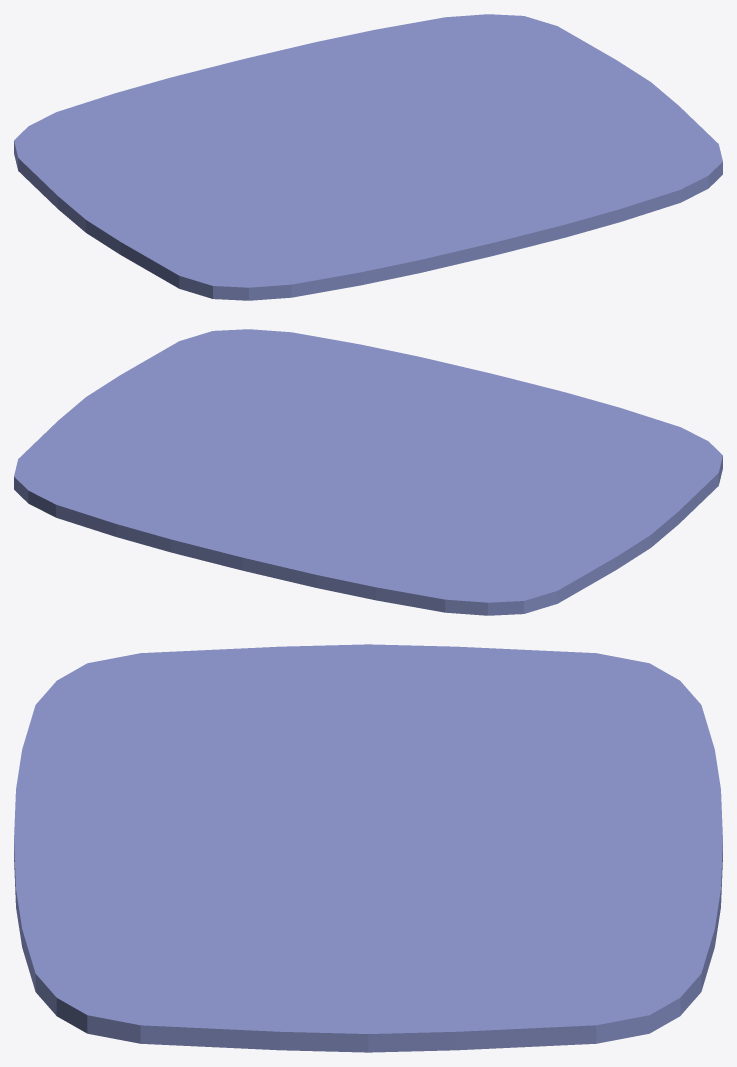
Rendered from Lake.fbx.
3 renders of one model, top to bottom at view 1: azimuth 30°, elevation 25°; view 2: azimuth 150°, elevation 25°; view 3: azimuth 270°, elevation 25°, orthographic. The views are drawn at different scales.
Visible parts, largest first — view 1: Lake; view 2: Lake; view 3: Lake.
Part boxes in pixels (left/top/right/bottom): Lake: left=14, top=14, right=722, bottom=300; Lake: left=14, top=329, right=722, bottom=615; Lake: left=14, top=644, right=722, bottom=1052.
Bounding box in the file's own units: 43.77 × 0.9689 × 33.65.
